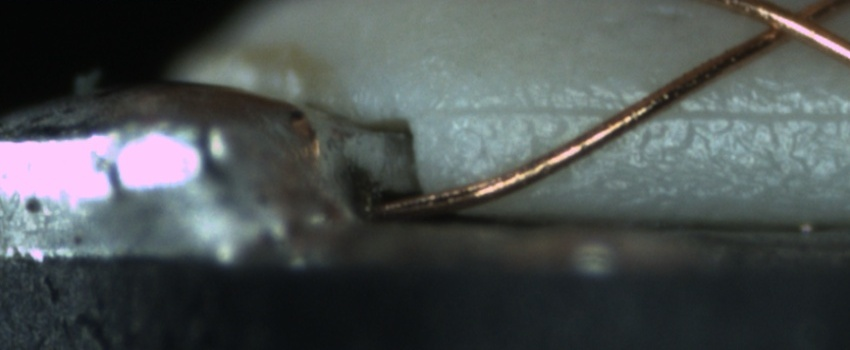CL: (744, 0, 838, 50)
DL: (440, 77, 850, 150)
